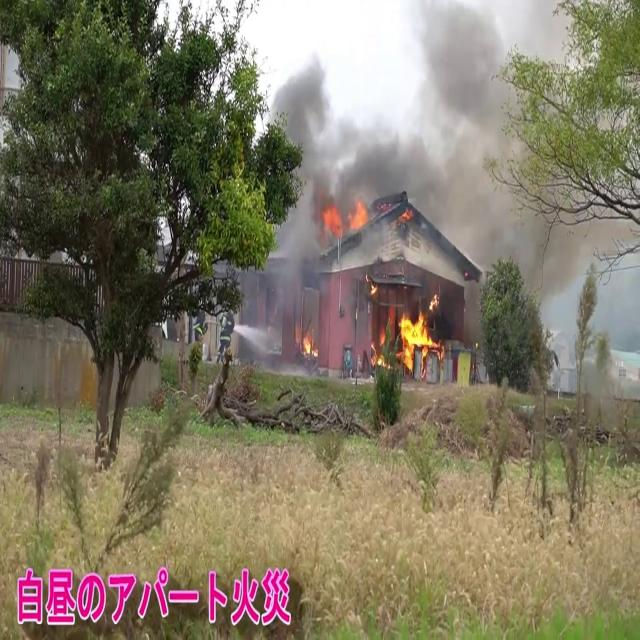Fire: (389, 294, 444, 366)
Smoke: (262, 0, 515, 225), (258, 38, 376, 352)
